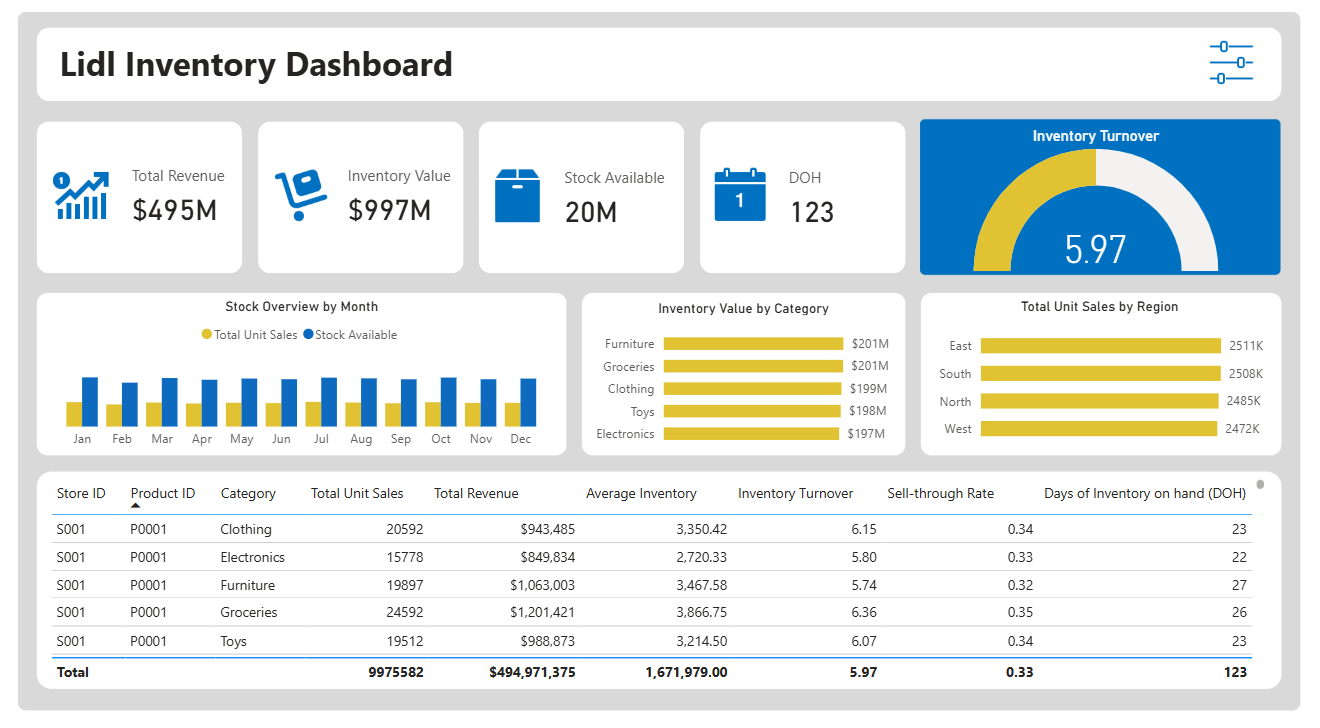

This screenshot's page, from the dashboard's own definition file:
{"tool":"powerbi","page":{"name":"Page 1","canvas":[1280,720],"ordinal":0},"visuals":[{"type":"textbox","title":"Title","box":[54.9,39.8,476.2,54.9],"z":0},{"type":"cardVisual","fields":{"Data":["Key Measure.Total Revenue","Key Measure.Inventory Value","Key Measure.Stock Available","Key Measure.Days of Inventory on hand (DOH)"]},"box":[32.7,118.6,854.6,157.4],"z":1000},{"type":"gauge","fields":{"Y":["Key Measure.Inventory Turnover"]},"box":[895.8,128.3,335.3,145.3],"z":2000},{"type":"clusteredColumnChart","title":"Stock Overview by Month","fields":{"Y":["Key Measure.Total Unit Sales","Key Measure.Stock Available"],"Category":["Date.Month Name"]},"box":[46,295.4,496.3,153.7],"z":3000},{"type":"barChart","fields":{"Y":["Key Measure.Inventory Value"],"Category":["Inventory.Category"]},"box":[568.9,296.6,306.3,150.1],"z":4000},{"type":"barChart","fields":{"Y":["Key Measure.Total Unit Sales"],"Category":["Inventory.Region"]},"box":[903,295.4,328,150.1],"z":5000},{"type":"tableEx","fields":{"Values":["Inventory.Store ID","Inventory.Product ID","Inventory.Category","Key Measure.Total Unit Sales","Key Measure.Total Revenue","Key Measure.Average Inventory","Key Measure.Inventory Turnover","Key Measure.Sell-through Rate","Key Measure.Days of Inventory on hand (DOH)"]},"box":[46,465.1,1185.8,209.5],"z":6000},{"type":"image","title":"Filter Pane Icon","box":[1167.5,36.5,55.5,59.9],"z":8000}]}

Visuals, with their boxes in screenshot pixels (x1, y1, x2, y2), scaled from the page's 1280x720 canvas onto the 1320x728 screenshot:
"Title" textbox: (57,40,548,96)
cardVisual - Key Measure.Total Revenue x Key Measure.Inventory Value: (34,120,915,279)
gauge - Key Measure.Inventory Turnover: (924,130,1270,277)
"Stock Overview by Month" clusteredColumnChart: (47,299,559,454)
barChart - Key Measure.Inventory Value x Inventory.Category: (587,300,903,452)
barChart - Key Measure.Total Unit Sales x Inventory.Region: (931,299,1269,450)
tableEx - Inventory.Store ID x Inventory.Product ID: (47,470,1270,682)
"Filter Pane Icon" image: (1204,37,1261,97)
